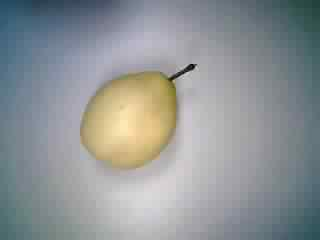pear: (75, 54, 212, 178)
